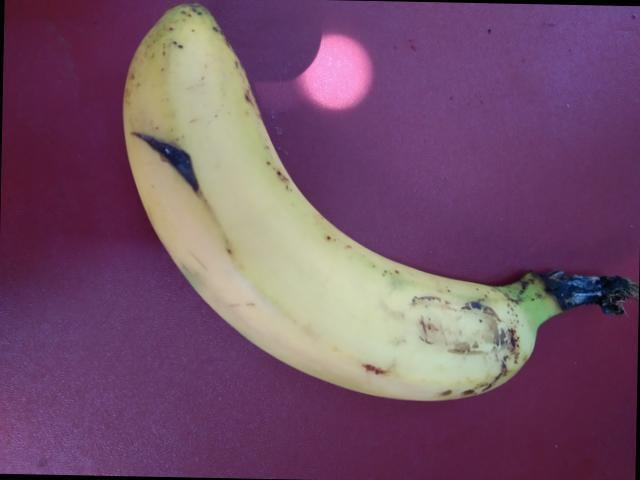ripe: (115, 27, 552, 415)
